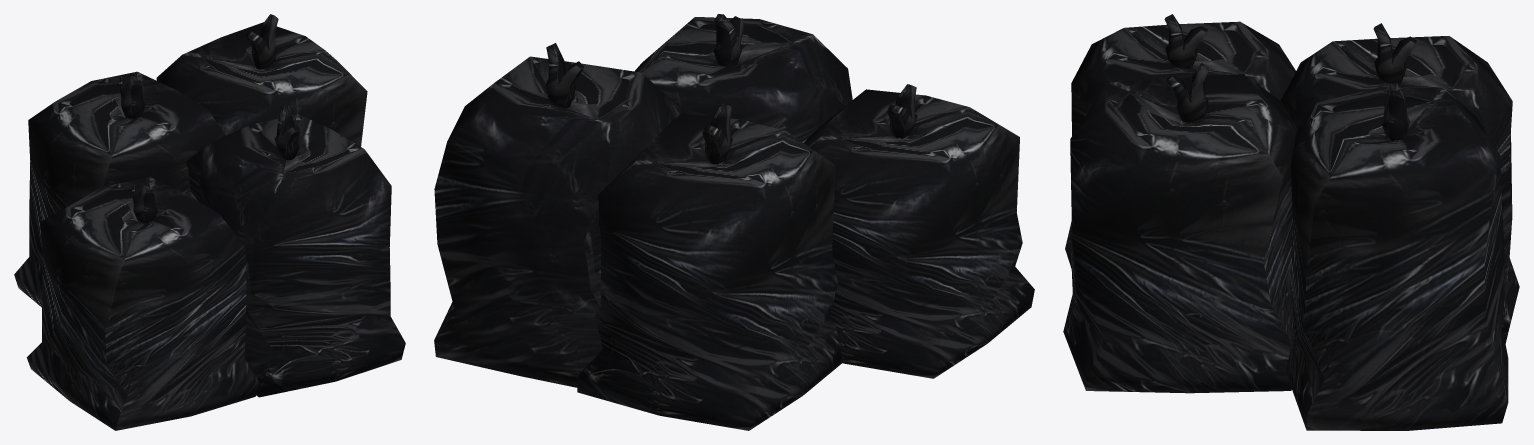
The model's file is trash_bag.glb.
3 renders of one model, left to right at view 1: azimuth 30°, elevation 25°; view 2: azimuth 150°, elevation 25°; view 3: azimuth 270°, elevation 25°, orthographic. The views are drawn at different scales.
Visible parts, largest first — view 1: Box002, Box003, Box001, Box004; view 2: Box001, Box004, Box002, Box003; view 3: Box004, Box003, Box001, Box002.
Boxes of the visible parts, <box> form: Box002: <box>26,177,258,430</box>; Box003: <box>186,106,405,397</box>; Box001: <box>14,71,225,307</box>; Box004: <box>156,14,367,146</box>; Box001: <box>577,103,842,430</box>; Box004: <box>434,43,681,387</box>; Box002: <box>804,84,1034,378</box>; Box003: <box>634,14,852,142</box>; Box004: <box>1286,82,1508,430</box>; Box003: <box>1063,63,1296,393</box>; Box001: <box>1280,23,1519,343</box>; Box002: <box>1065,14,1295,268</box>.
Size of the model in its own units: 42.44 by 27.73 by 37.38.
1 material, 1 textured.
